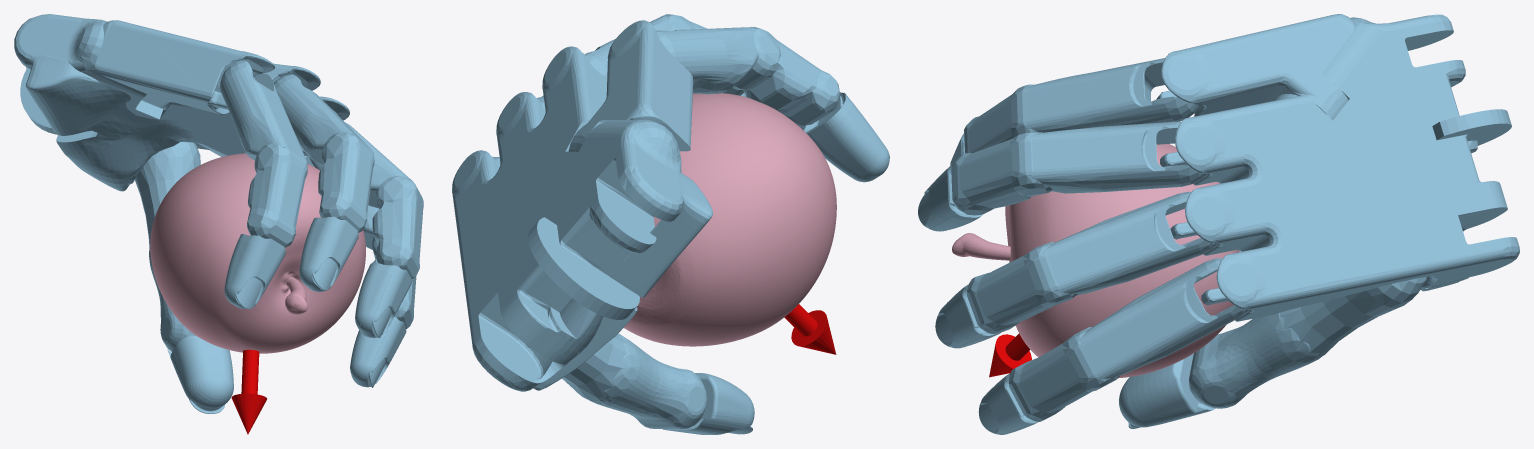
The picture shows the model from 3 angles, left to right: view 1: azimuth 30°, elevation 25°; view 2: azimuth 150°, elevation 25°; view 3: azimuth 270°, elevation 25°; orthographic projection. The views are drawn at different scales.
Parts seen in each view (by area): view 1: world, apple.stl; view 2: world, apple.stl; view 3: world, apple.stl.
Part boxes in pixels (x1,y1,x2,y2): world: (14, 14, 423, 434); apple.stl: (150, 153, 365, 353); world: (452, 14, 889, 434); apple.stl: (624, 93, 836, 346); world: (918, 14, 1519, 434); apple.stl: (952, 144, 1239, 378).
Size of the model in its own units: 0.1158 by 0.1357 by 0.1837.
